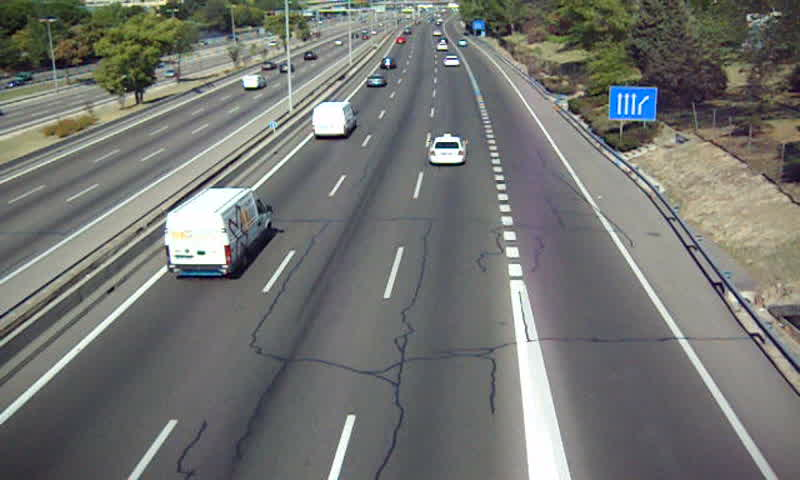car: (429, 136, 468, 166), (365, 74, 386, 89), (442, 55, 461, 69), (380, 55, 396, 71)
van: (164, 187, 274, 276), (311, 102, 357, 137)
